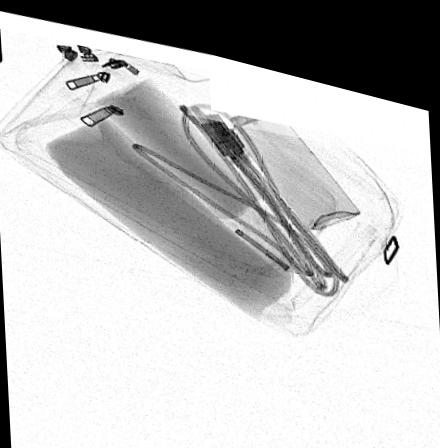Sprayer: (211, 81, 360, 213)
